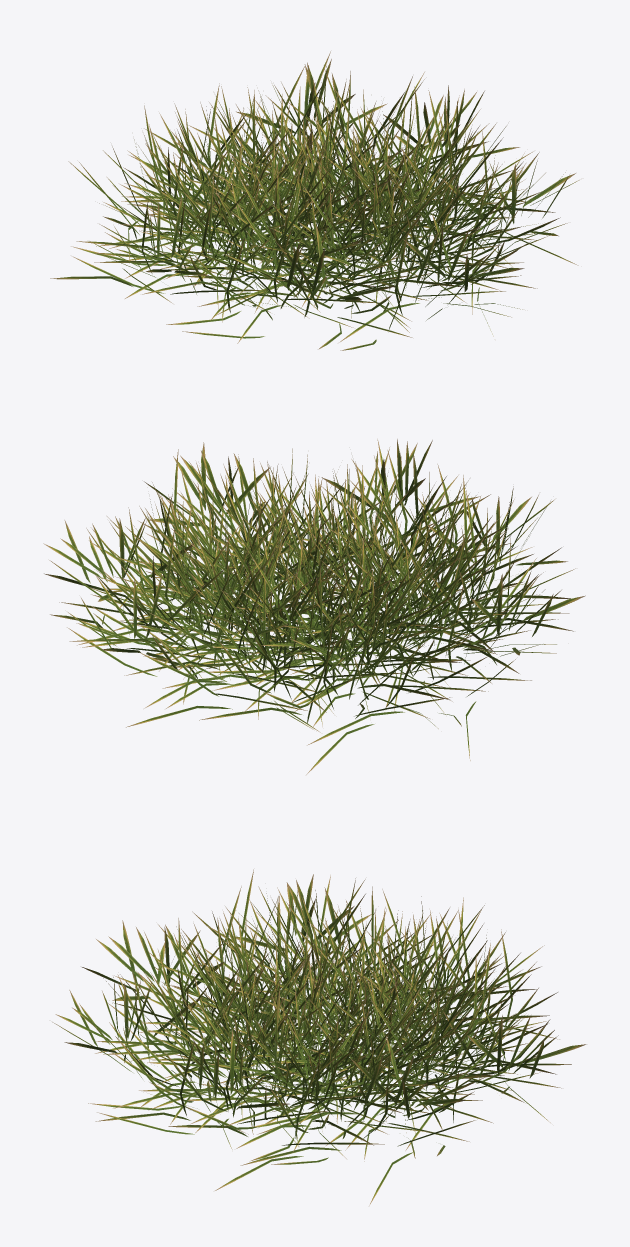
The model's file is realgrass.glb.
The picture shows the model from 3 angles, top to bottom: view 1: azimuth 30°, elevation 25°; view 2: azimuth 150°, elevation 25°; view 3: azimuth 270°, elevation 25°; orthographic projection. The views are drawn at different scales.
Parts seen in each view (by area): view 1: Object_2; view 2: Object_2; view 3: Object_2.
Part boxes in pixels (x1=…): Object_2: x1=50, y1=51, x2=579, y2=350; Object_2: x1=43, y1=439, x2=585, y2=774; Object_2: x1=52, y1=869, x2=586, y2=1205.
Bounding box in the file's own units: 2.53 × 0.9 × 2.53.
1 material, 1 textured.
